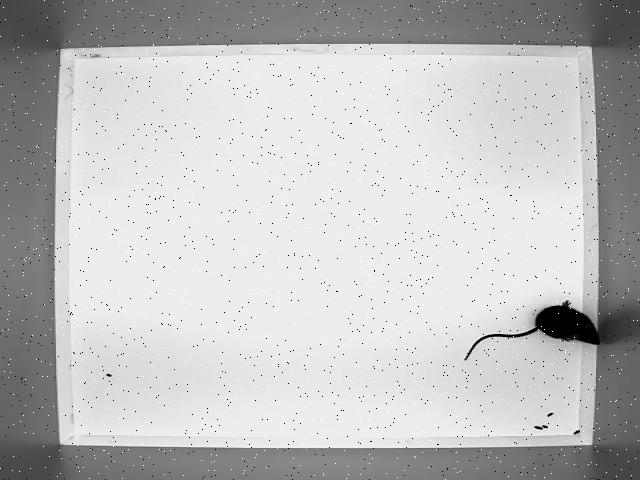Tikus: (464, 300, 598, 359)
